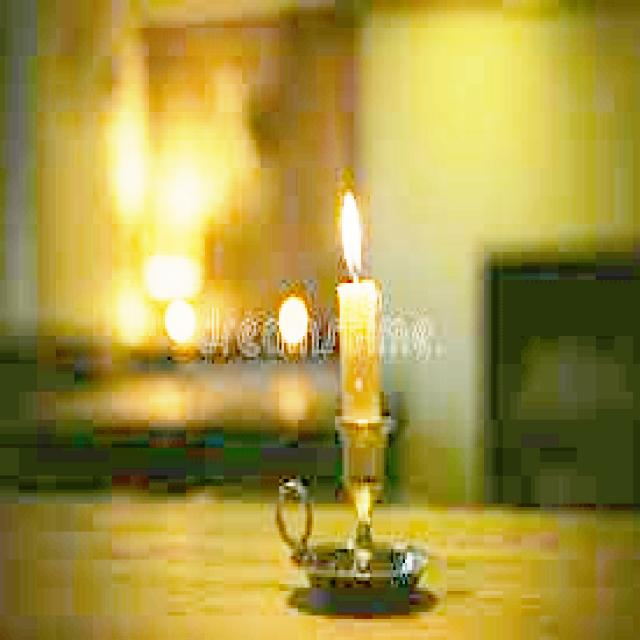api: (336, 183, 378, 295)
